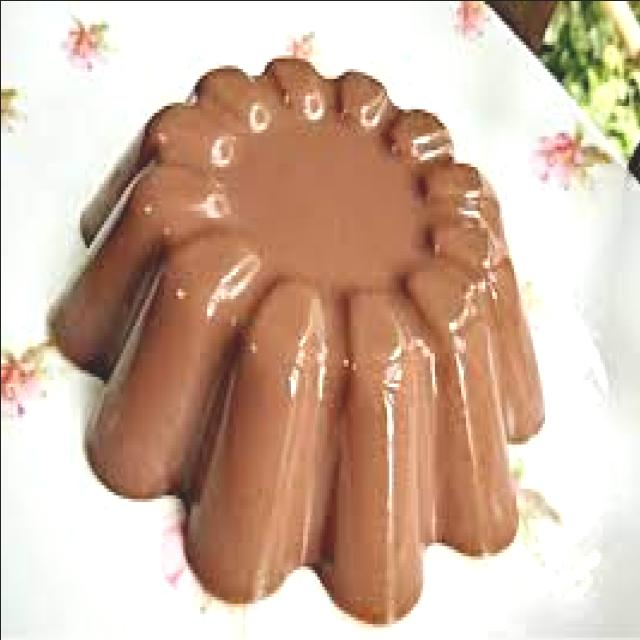puding: (43, 54, 547, 626)
